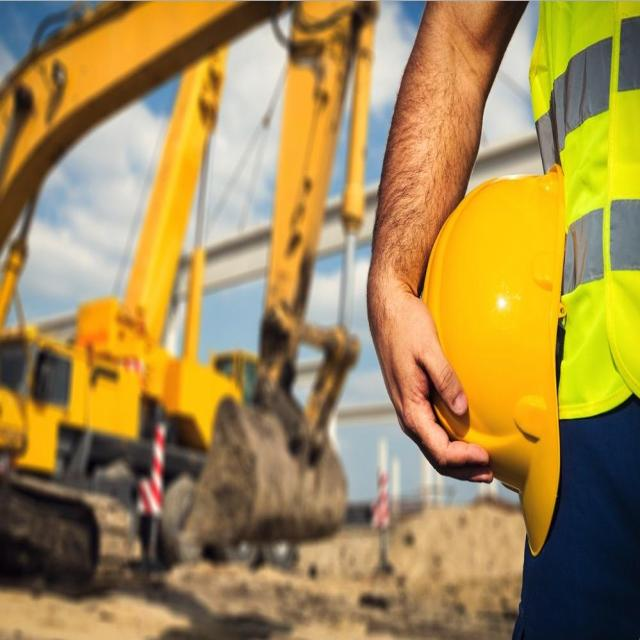Reflective-Jacket: (533, 1, 640, 433)
Safety-Helmet: (420, 160, 564, 562)
